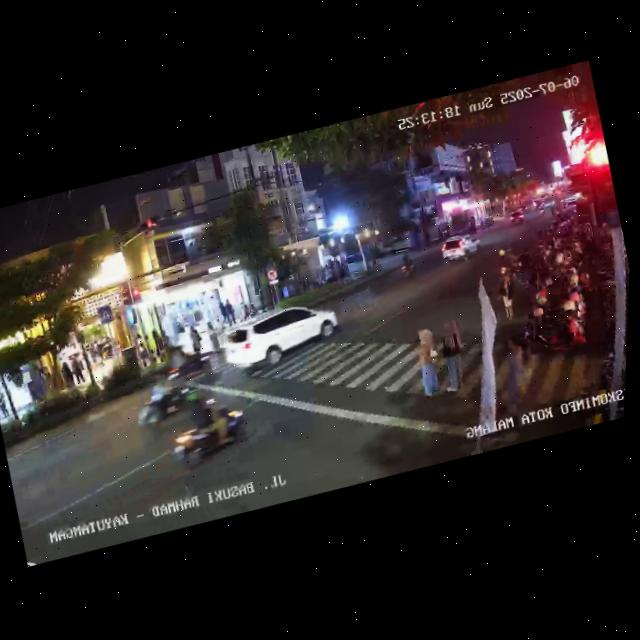car: (216, 294, 343, 381), (437, 229, 484, 267)
motorcycle: (156, 376, 256, 474), (130, 371, 211, 440), (162, 340, 216, 384), (394, 248, 419, 281)
person: (490, 331, 549, 416), (429, 316, 474, 396), (408, 328, 449, 400), (493, 269, 521, 320), (204, 318, 222, 354), (68, 353, 87, 387), (58, 358, 76, 390), (187, 323, 204, 355), (222, 297, 238, 327), (239, 298, 253, 320), (216, 301, 230, 323), (0, 392, 9, 420)
